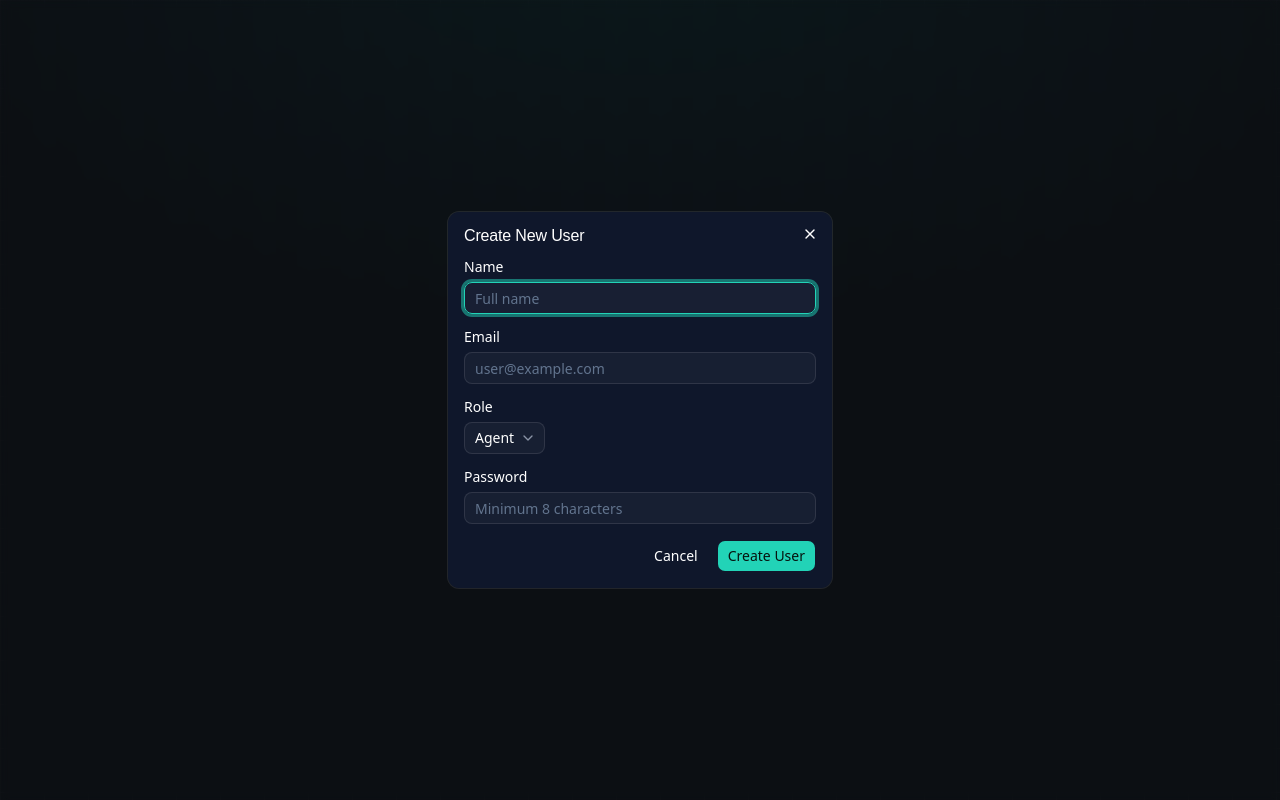
Test: UserFormDialog — create mode › shows validation error when email is empty
The width and height of the screenshot is (1280, 800).
In the field labelled "Name": (640, 298) [464,282,816,314], type "John Doe"
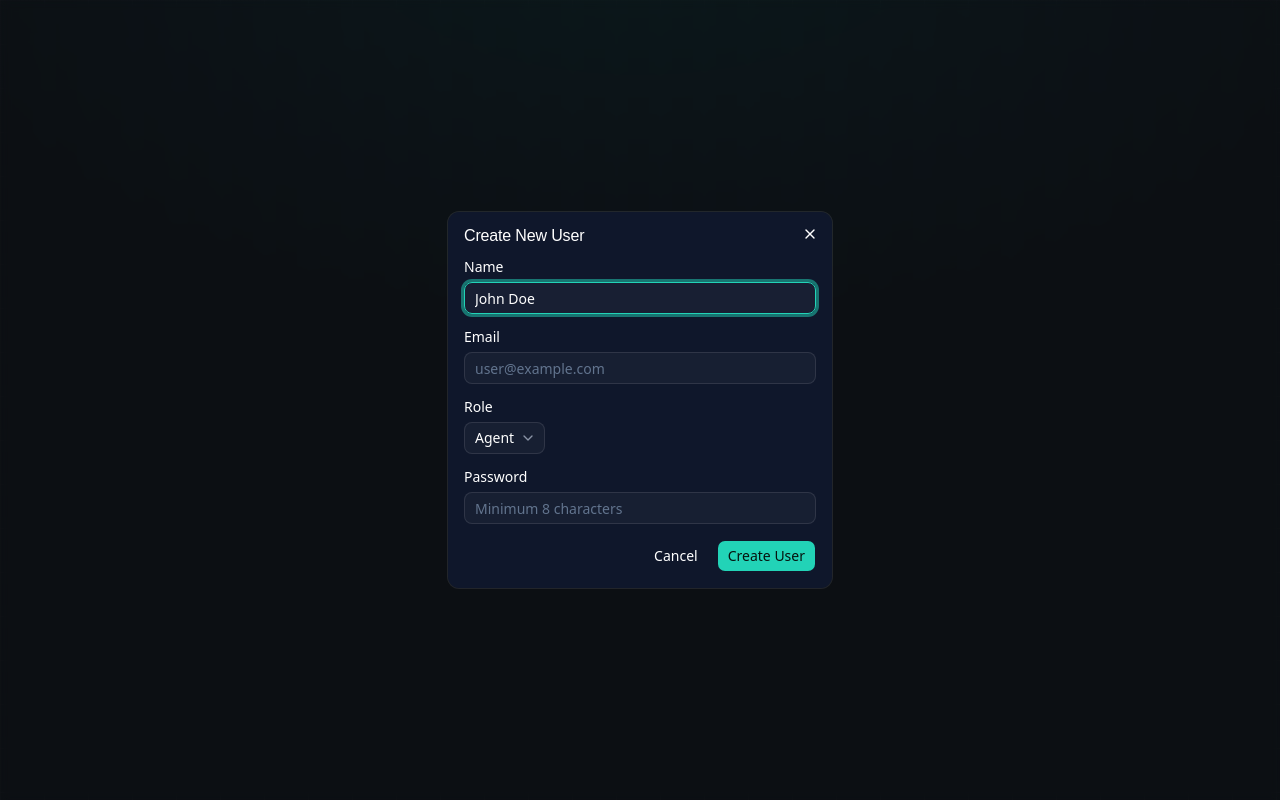
In the password field labelled "Password": (640, 508) [464,492,816,524], type "password123"
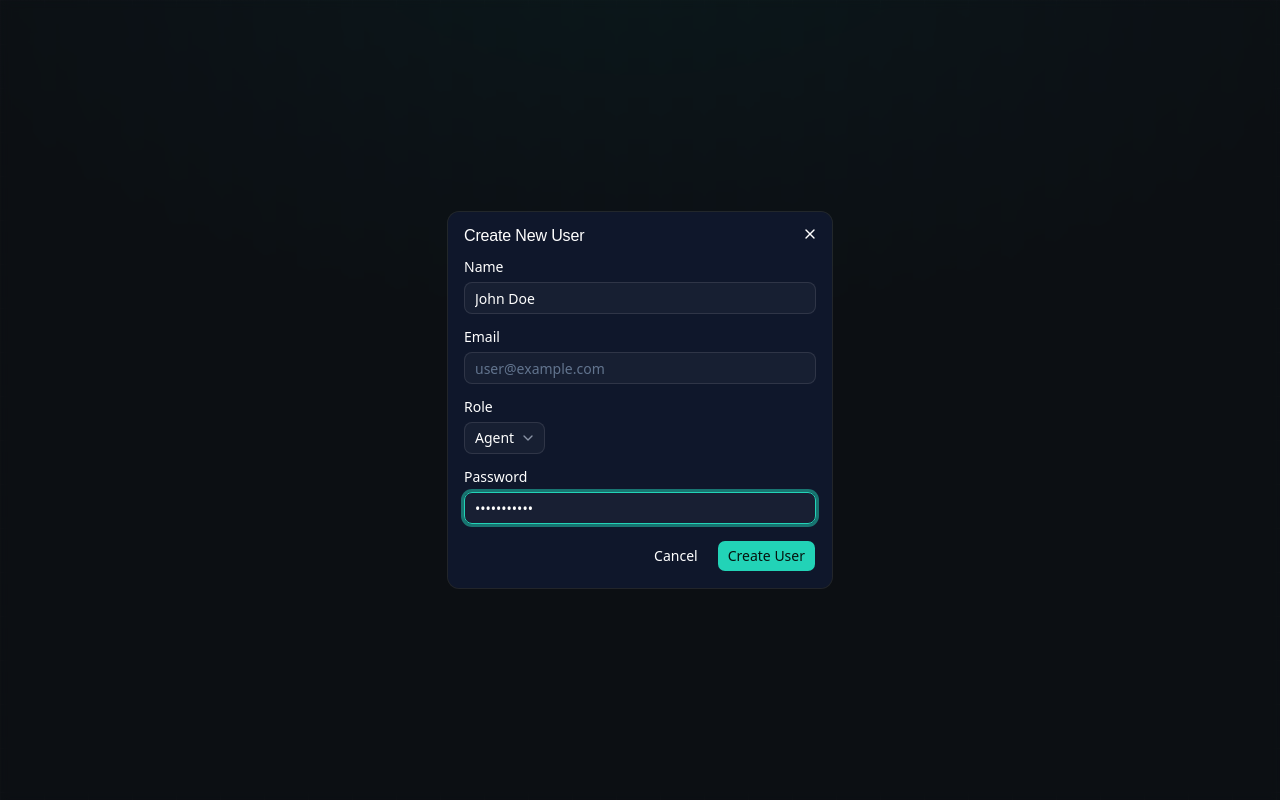
Click the button "Create User": (766, 556) [717,540,816,572]
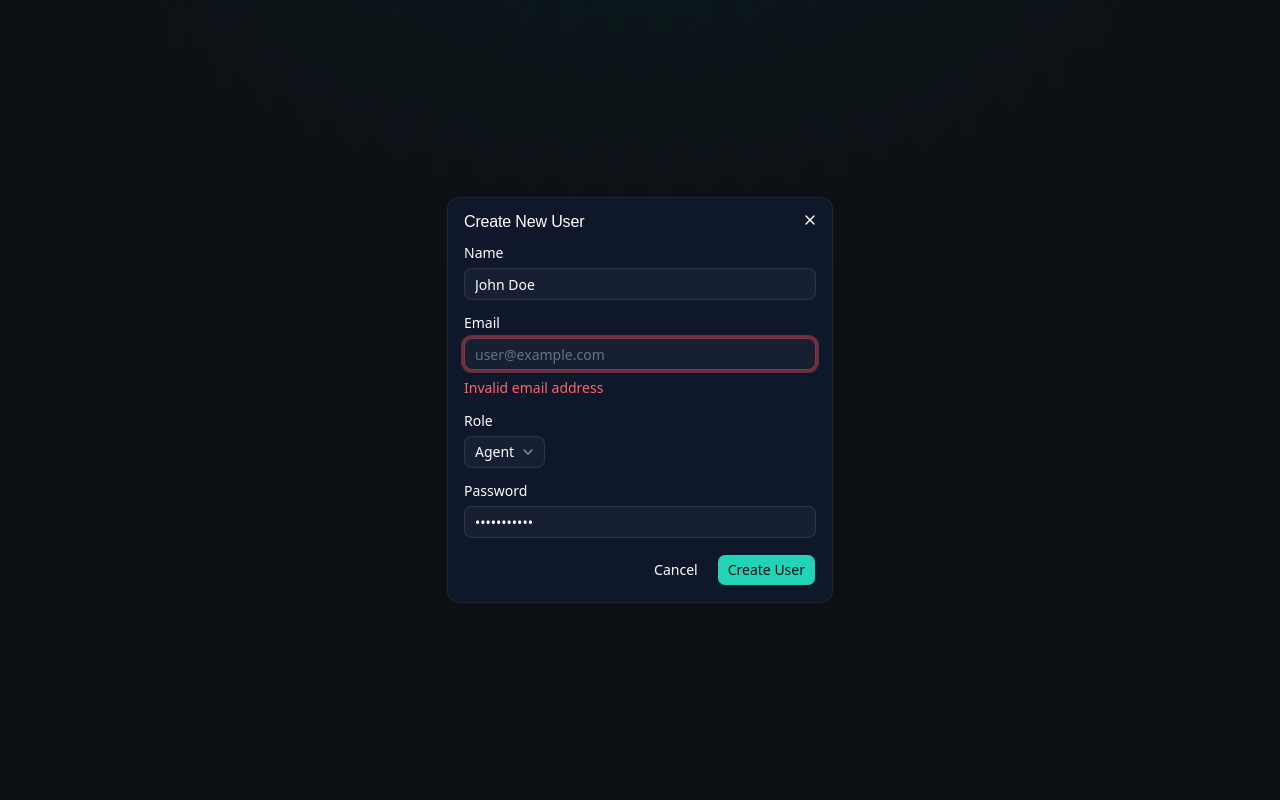
Result: the text "Invalid email address" is shown at [464,378,603,397]
